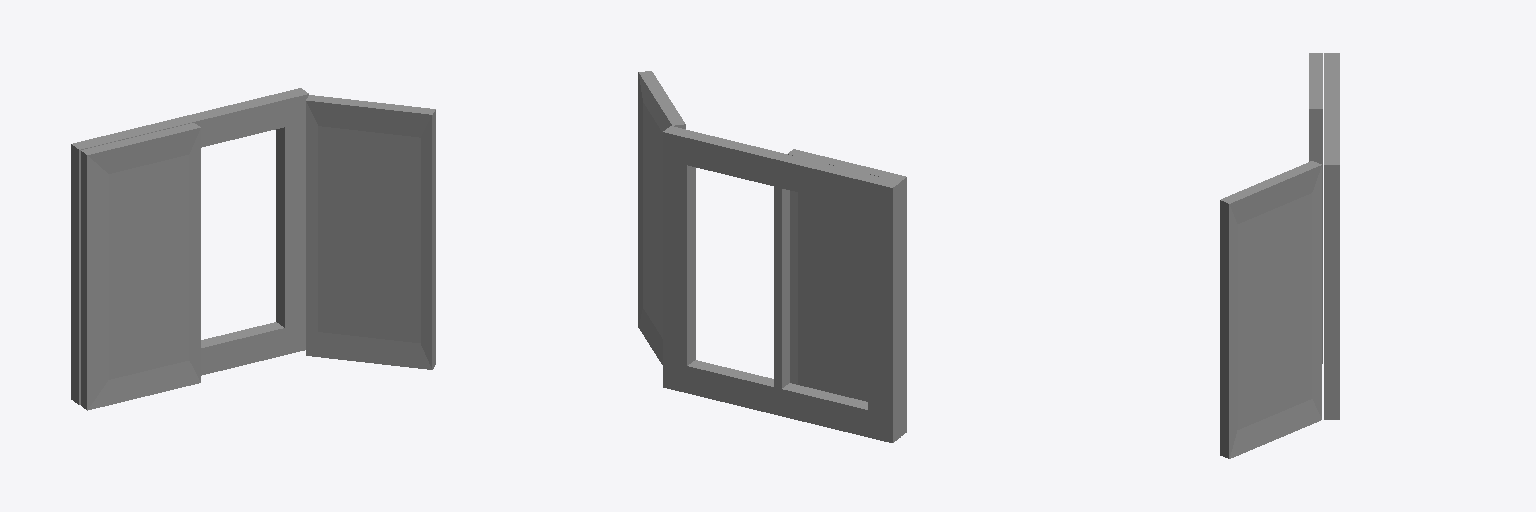
Rendered from okno-2blend.obj.
3 renders of one model, left to right at view 1: azimuth 30°, elevation 25°; view 2: azimuth 150°, elevation 25°; view 3: azimuth 270°, elevation 25°, orthographic.
Visible parts, largest first — view 1: Plane_Plane.004, Plane.001_Plane.005, okno_Plane.002; view 2: okno_Plane.002, Plane.001_Plane.005, Plane_Plane.004; view 3: Plane_Plane.004, okno_Plane.002, Plane.001_Plane.005.
Part boxes in pixels (bbox=[...]): Plane_Plane.004: bbox=[306, 95, 435, 369]; Plane.001_Plane.005: bbox=[81, 123, 200, 410]; okno_Plane.002: bbox=[71, 88, 308, 404]; okno_Plane.002: bbox=[663, 126, 900, 442]; Plane.001_Plane.005: bbox=[788, 149, 906, 435]; Plane_Plane.004: bbox=[638, 71, 685, 364]; Plane_Plane.004: bbox=[1220, 161, 1321, 458]; okno_Plane.002: bbox=[1324, 53, 1339, 419]; Plane.001_Plane.005: bbox=[1309, 53, 1322, 363].
Bounding box in the file's own units: 4.99 × 3.94 × 1.69.